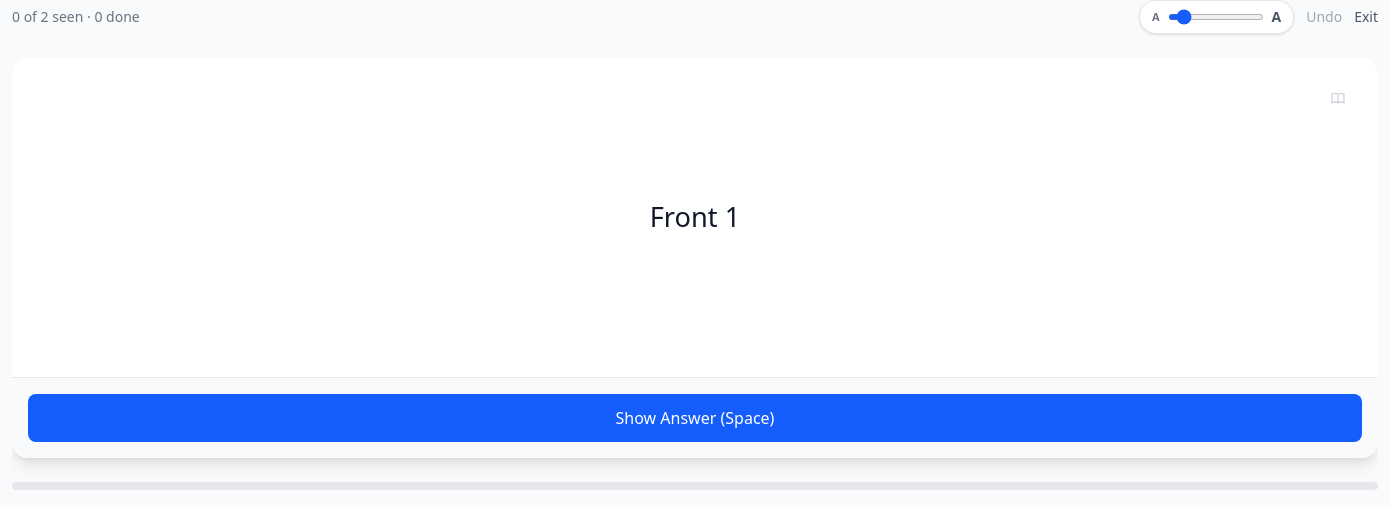
Test: FlashcardReview shows students no cognate score › on the back of the card, even where the card was scored and the old switch is on
Click the button "Show Answer (Space)".
click(695, 418)  # box x1=28 y1=394 x2=1362 y2=442
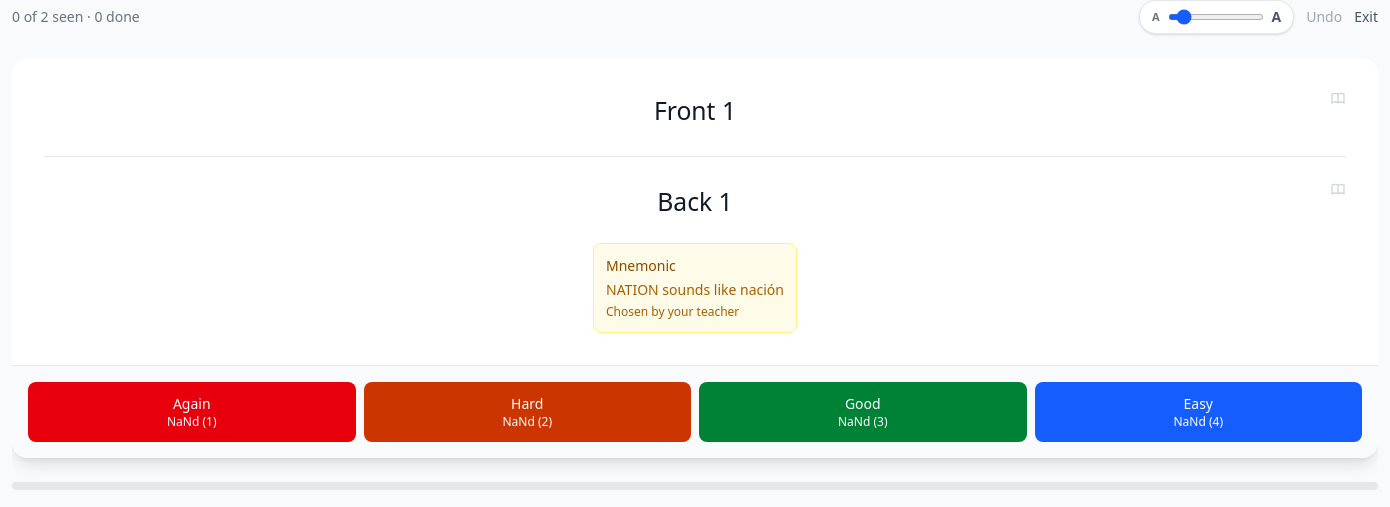
Expected: the text "NATION sounds like nación" is shown, x1=606 y1=280 x2=784 y2=300
